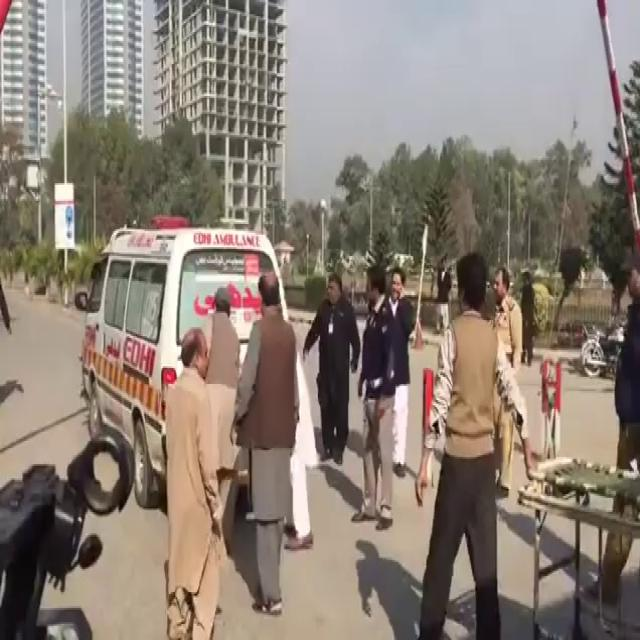ambulance: (76, 220, 288, 451)
